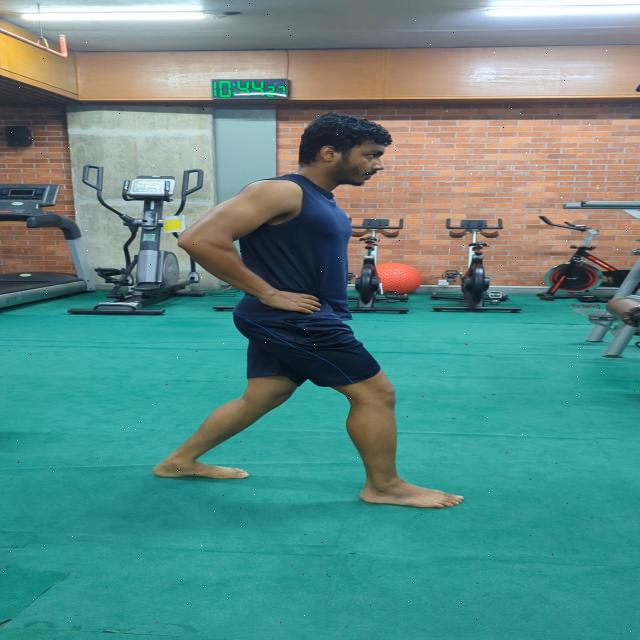Normal_Lunges: (145, 110, 474, 520)
